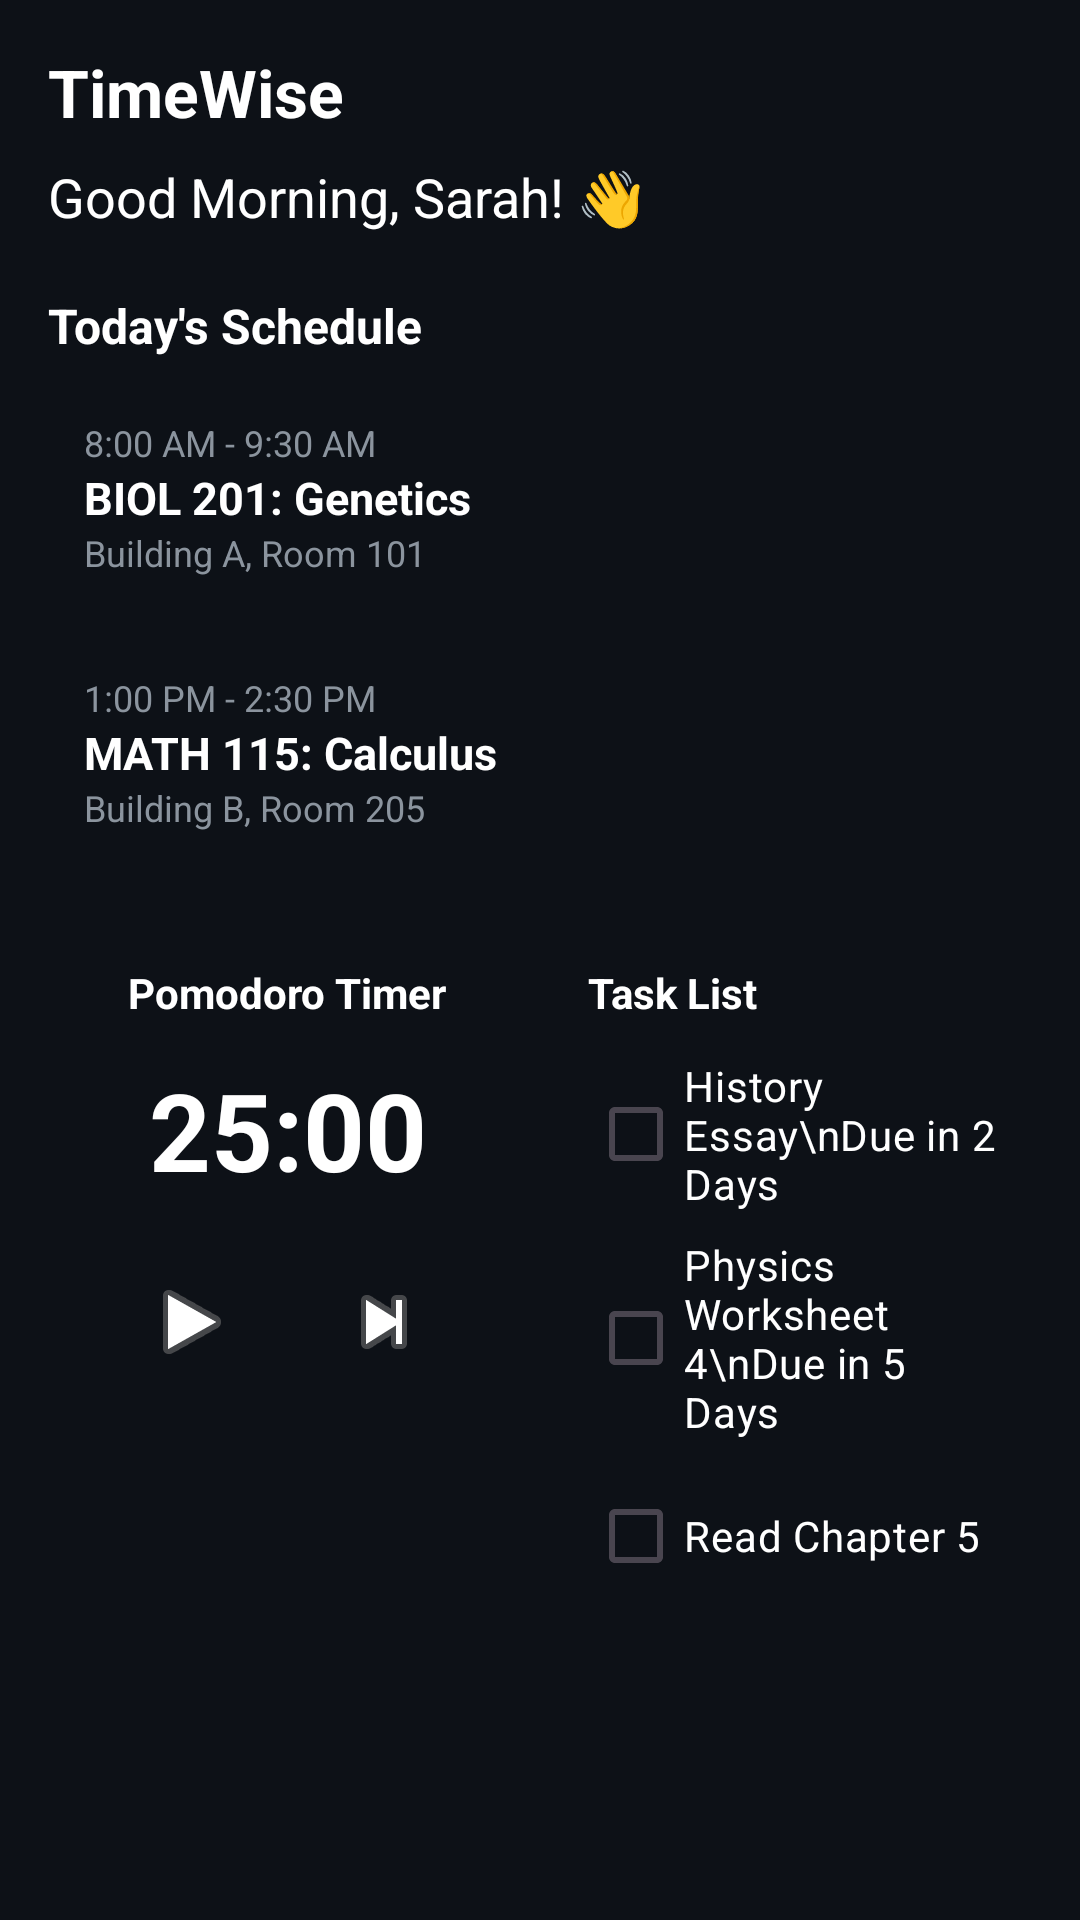

Screen size 1080px×1920px. Icon name, then its box in pixels as (x1, y1, x2, y2):
Play / Pause: (163, 1290, 221, 1354)
Skip: (361, 1295, 407, 1349)
